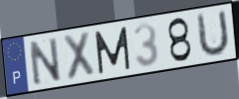3: (133, 20, 160, 71)
8: (167, 16, 193, 63)
M: (93, 25, 133, 77)
N: (27, 35, 63, 88)
U: (196, 8, 231, 60)
X: (61, 29, 97, 83)
